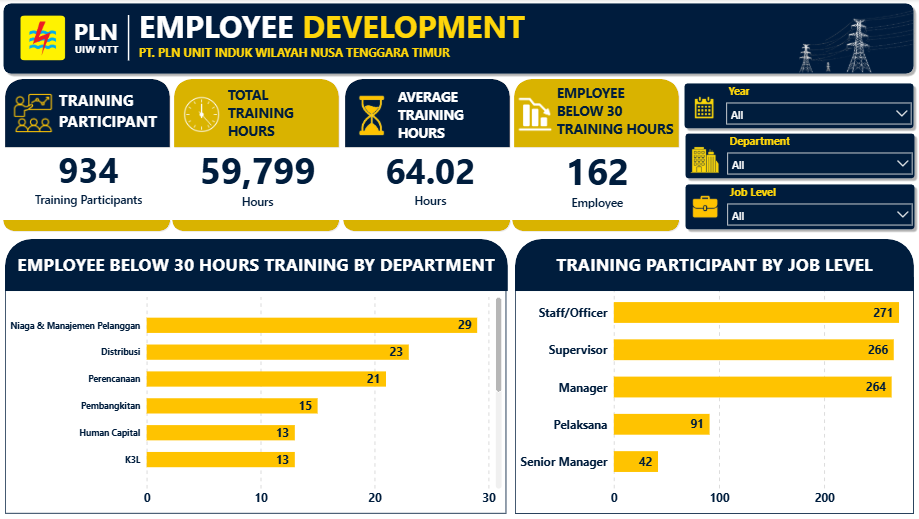

The page's visual inventory and layout, read from the dashboard file:
{"tool":"powerbi","page":{"name":"Employee Development","canvas":[1280,720],"ordinal":3},"visuals":[{"type":"shape","box":[13.8,0,1264.9,108.7],"z":0,"group":"g17"},{"type":"group","id":"g1","title":"Group 1","box":[17.9,108.7,233.1,211.8],"z":0,"group":"g5"},{"type":"group","id":"g2","title":"Group 1","box":[250.5,108.7,233.1,211.8],"z":0,"group":"g6"},{"type":"group","id":"g3","title":"Group 1","box":[485.9,108.7,233.1,211.8],"z":0,"group":"g7"},{"type":"group","id":"g4","title":"Group 1","box":[718.5,108.7,233.1,211.8],"z":0,"group":"g8"},{"type":"image","box":[41.8,22.3,65.4,62.6],"z":1000,"group":"g17"},{"type":"textbox","box":[111.9,17,83.5,52.6],"z":2000,"group":"g17"},{"type":"textbox","box":[112.7,53.9,75.2,36.8],"z":3000,"group":"g17"},{"type":"shape","box":[185.1,22.3,15.3,62.6],"z":4000,"group":"g17"},{"type":"textbox","box":[201,2.8,567.1,70.2],"z":5000,"group":"g17"},{"type":"textbox","box":[201.2,57.4,442.6,45.7],"z":6000,"group":"g17"},{"type":"image","box":[1113.5,6.9,161,100.5],"z":7000,"group":"g17"},{"type":"group","id":"g5","title":"Group 3","box":[17.9,108.7,240.9,211.8],"z":8000,"group":"g17"},{"type":"barChart","fields":{"Category":["DimEmployee.JobLevel"],"Y":["FactTraining.Training Participants"]},"box":[724.2,382.8,548.6,326],"z":8000,"group":"g16"},{"type":"clusteredBarChart","fields":{"Category":["DimEmployee.Department"],"Y":["FactTraining.Employees Low Training Exposure"]},"box":[21.5,396.4,689.5,312.4],"z":8000,"group":"g9"},{"type":"group","id":"g6","title":"Group 3","box":[250.5,108.7,233.1,211.8],"z":9000,"group":"g17"},{"type":"shape","box":[20.8,204.2,229.9,98.5],"z":9000,"group":"g21"},{"type":"shape","box":[253.4,204.2,229.9,98.5],"z":9000,"group":"g22"},{"type":"shape","box":[488.8,204.2,229.9,98.5],"z":9000,"group":"g23"},{"type":"shape","box":[721.4,204.2,229.9,98.5],"z":9000,"group":"g24"},{"type":"group","id":"g7","title":"Group 3","box":[485.9,108.7,262.9,211.8],"z":10000,"group":"g17"},{"type":"group","id":"g8","title":"Group 3","box":[718.5,108.7,268.4,211.8],"z":11000,"group":"g17"},{"type":"cardVisual","title":"Total Employee","fields":{"Data":["FactTraining.Training Participants"]},"box":[22.9,172,225,141.7],"z":11000,"group":"g5"},{"type":"cardVisual","title":"Total Employee","fields":{"Data":["FactTraining.Average Training Hours per Participant"]},"box":[490.4,175.6,233.3,136.7],"z":11000,"group":"g7"},{"type":"cardVisual","title":"Total Employee","fields":{"Data":["Sum(FactTraining.TrainingHours)"]},"box":[255.2,175.8,228.3,135],"z":11000,"group":"g6"},{"type":"cardVisual","title":"Total Employee","fields":{"Data":["FactTraining.Employees Low Training Exposure"]},"box":[721.8,182,230,125],"z":11000,"group":"g8"},{"type":"shape","box":[20.8,108.7,229.9,97],"z":12000,"group":"g21"},{"type":"shape","box":[253.4,108.7,229.9,97],"z":12000,"group":"g22"},{"type":"shape","box":[488.8,108.7,229.9,97],"z":12000,"group":"g23"},{"type":"shape","box":[721.4,108.7,229.9,97],"z":12000,"group":"g24"},{"type":"image","box":[33,129.3,55.1,55.1],"z":12000,"group":"g5"},{"type":"image","box":[267,129.3,50.9,60.6],"z":12000,"group":"g6"},{"type":"image","box":[494.2,132.1,64.7,56.4],"z":12000,"group":"g7"},{"type":"image","box":[724,133.5,56.4,50.9],"z":12000,"group":"g8"},{"type":"group","id":"g9","title":"Group 9","box":[21.5,330.3,692.3,378.5],"z":12000,"group":"g17"},{"type":"group","id":"g10","title":"Group 7","box":[951,110.4,327.6,74],"z":13000,"group":"g17"},{"type":"textbox","box":[776.3,111.5,210.6,86.7],"z":13000,"group":"g8"},{"type":"textbox","box":[323.4,114.2,156.9,96.3],"z":13000,"group":"g6"},{"type":"textbox","box":[557.5,117,191.3,88.1],"z":13000,"group":"g7"},{"type":"textbox","box":[90.8,119.7,167.9,86.7],"z":13000,"group":"g5"},{"type":"group","id":"g11","title":"Group 7","box":[952.5,178.8,327.6,74],"z":14000,"group":"g17"},{"type":"group","id":"g12","title":"Group 7","box":[952.5,248.5,327.6,74.3],"z":15000,"group":"g17"},{"type":"shape","box":[17.9,302.1,233.1,18.3],"z":15000,"group":"g21"},{"type":"shape","box":[250.5,302.1,233.1,18.3],"z":15000,"group":"g22"},{"type":"shape","box":[485.9,302.1,233.1,18.3],"z":15000,"group":"g23"},{"type":"shape","box":[718.5,302.1,233.1,18.3],"z":15000,"group":"g24"},{"type":"group","id":"g13","title":"Group 4","box":[951,110.4,327.6,74],"z":16000,"group":"g18"},{"type":"group","id":"g14","title":"Group 4","box":[952.5,178.8,327.6,74],"z":16000,"group":"g19"},{"type":"image","box":[952.5,196.2,66.1,48.2],"z":16000,"group":"g17"},{"type":"group","id":"g15","title":"Group 4","box":[952.5,248.5,327.6,74],"z":16000,"group":"g20"},{"type":"shape","box":[21.5,330.3,692.3,71.9],"z":16000,"group":"g9"},{"type":"shape","box":[724,330.3,549.2,71.9],"z":16000,"group":"g16"},{"type":"image","box":[955.2,112.2,57.8,72.9],"z":17000,"group":"g17"},{"type":"textbox","box":[23.3,342.2,689.4,75.7],"z":17000,"group":"g9"},{"type":"textbox","box":[725.4,342.2,546.8,75.7],"z":17000,"group":"g16"},{"type":"image","box":[954.5,259,60.6,54.1],"z":18000,"group":"g17"},{"type":"shape","box":[951,110.4,327.6,74],"z":19000,"group":"g13"},{"type":"shape","box":[952.5,178.8,327.6,74],"z":19000,"group":"g14"},{"type":"shape","box":[952.5,248.5,327.6,74],"z":19000,"group":"g15"},{"type":"group","id":"g16","title":"Group 9","box":[724,330.3,549.2,378.5],"z":19000,"group":"g17"},{"type":"group","id":"g17","title":"Group 5","box":[13.8,0,1266.2,708.8],"z":19001},{"type":"group","id":"g18","title":"Group 8","box":[951,110.4,327.6,74],"z":19001,"group":"g10"},{"type":"group","id":"g19","title":"Group 8","box":[952.5,178.8,327.6,74],"z":19001,"group":"g11"},{"type":"group","id":"g20","title":"Group 8","box":[952.5,248.5,327.6,74],"z":19001,"group":"g12"},{"type":"slicer","fields":{"Values":["DimDate.Year"]},"box":[1004.7,115.6,269.8,57.8],"z":20000,"group":"g13"},{"type":"slicer","fields":{"Values":["DimEmployee.Department"]},"box":[1006.2,184,269.8,57.8],"z":20000,"group":"g14"},{"type":"slicer","fields":{"Values":["DimEmployee.JobLevel"]},"box":[1006.2,253.7,269.8,57.8],"z":20000,"group":"g15"},{"type":"group","id":"g21","title":"Group 2","box":[17.9,108.7,233.1,211.8],"z":35002,"group":"g1"},{"type":"group","id":"g22","title":"Group 2","box":[250.5,108.7,233.1,211.8],"z":35002,"group":"g2"},{"type":"group","id":"g23","title":"Group 2","box":[485.9,108.7,233.1,211.8],"z":35002,"group":"g3"},{"type":"group","id":"g24","title":"Group 2","box":[718.5,108.7,233.1,211.8],"z":35002,"group":"g4"}]}

Visuals, with their boxes in screenshot pixels (x1, y1, x2, y2), scaled from the page's 1280x720 canvas onto the 919x519 screenshot:
shape: <box>10,0,918,78</box>
"Group 1" group: <box>13,78,180,231</box>
"Group 1" group: <box>180,78,347,231</box>
"Group 1" group: <box>349,78,516,231</box>
"Group 1" group: <box>516,78,683,231</box>
image: <box>30,16,77,61</box>
textbox: <box>80,12,140,50</box>
textbox: <box>81,39,135,65</box>
shape: <box>133,16,144,61</box>
textbox: <box>144,2,551,53</box>
textbox: <box>144,41,462,74</box>
image: <box>799,5,915,77</box>
"Group 3" group: <box>13,78,186,231</box>
barChart - DimEmployee.JobLevel x FactTraining.Training Participants: <box>520,276,914,511</box>
clusteredBarChart - DimEmployee.Department x FactTraining.Employees Low Training Exposure: <box>15,286,510,511</box>
"Group 3" group: <box>180,78,347,231</box>
shape: <box>15,147,180,218</box>
shape: <box>182,147,347,218</box>
shape: <box>351,147,516,218</box>
shape: <box>518,147,683,218</box>
"Group 3" group: <box>349,78,538,231</box>
"Group 3" group: <box>516,78,709,231</box>
"Total Employee" cardVisual: <box>16,124,178,226</box>
"Total Employee" cardVisual: <box>352,127,520,225</box>
"Total Employee" cardVisual: <box>183,127,347,224</box>
"Total Employee" cardVisual: <box>518,131,683,221</box>
shape: <box>15,78,180,148</box>
shape: <box>182,78,347,148</box>
shape: <box>351,78,516,148</box>
shape: <box>518,78,683,148</box>
image: <box>24,93,63,133</box>
image: <box>192,93,228,137</box>
image: <box>355,95,401,136</box>
image: <box>520,96,560,133</box>
"Group 9" group: <box>15,238,512,511</box>
"Group 7" group: <box>683,80,918,133</box>
textbox: <box>557,80,709,143</box>
textbox: <box>232,82,345,152</box>
textbox: <box>400,84,538,148</box>
textbox: <box>65,86,186,149</box>
"Group 7" group: <box>684,129,918,182</box>
"Group 7" group: <box>684,179,918,233</box>
shape: <box>13,218,180,231</box>
shape: <box>180,218,347,231</box>
shape: <box>349,218,516,231</box>
shape: <box>516,218,683,231</box>
"Group 4" group: <box>683,80,918,133</box>
"Group 4" group: <box>684,129,918,182</box>
image: <box>684,141,731,176</box>
"Group 4" group: <box>684,179,918,232</box>
shape: <box>15,238,512,290</box>
shape: <box>520,238,914,290</box>
image: <box>686,81,727,133</box>
textbox: <box>17,247,512,301</box>
textbox: <box>521,247,913,301</box>
image: <box>685,187,729,226</box>
shape: <box>683,80,918,133</box>
shape: <box>684,129,918,182</box>
shape: <box>684,179,918,232</box>
"Group 9" group: <box>520,238,914,511</box>
"Group 5" group: <box>10,0,918,511</box>
"Group 8" group: <box>683,80,918,133</box>
"Group 8" group: <box>684,129,918,182</box>
"Group 8" group: <box>684,179,918,232</box>
slicer - DimDate.Year: <box>721,83,915,125</box>
slicer - DimEmployee.Department: <box>722,133,916,174</box>
slicer - DimEmployee.JobLevel: <box>722,183,916,225</box>
"Group 2" group: <box>13,78,180,231</box>
"Group 2" group: <box>180,78,347,231</box>
"Group 2" group: <box>349,78,516,231</box>
"Group 2" group: <box>516,78,683,231</box>
